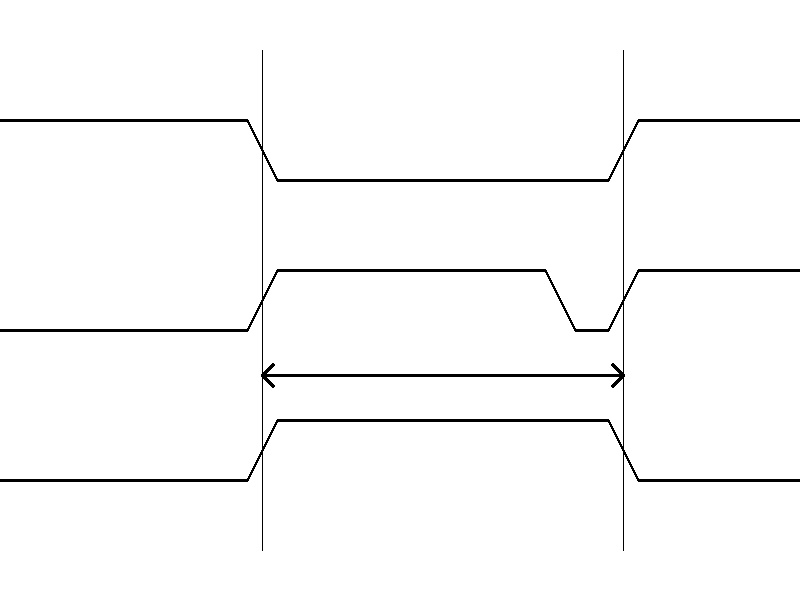double_arrow: (262, 360, 623, 390)
